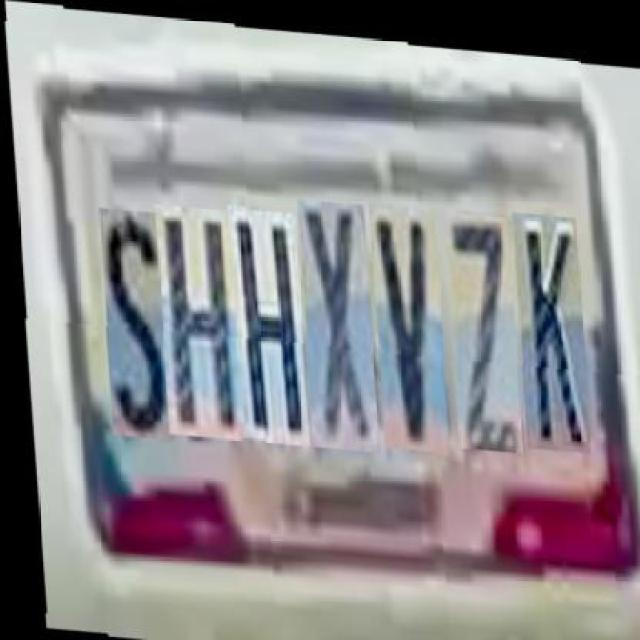h: (150, 201, 238, 437), (223, 200, 303, 438)
k: (508, 197, 584, 437)
s: (94, 207, 168, 438)
v: (365, 192, 443, 443)
x: (292, 191, 373, 443)
z: (439, 198, 516, 438)
